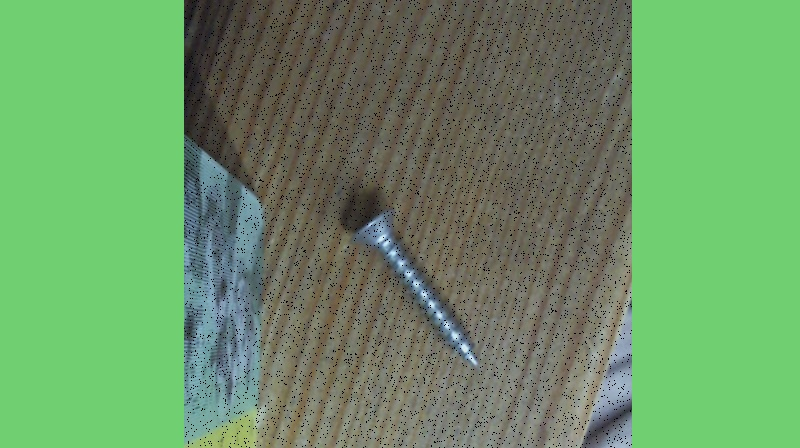S001: (345, 200, 483, 370)
